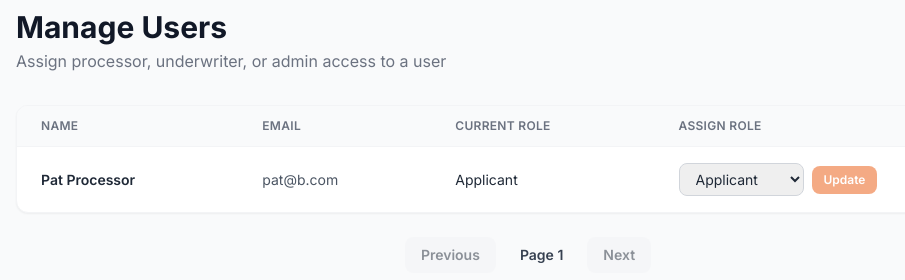
Scenario: UserManagement — role assignment › updates the role via PATCH /admin/users/{id}/role and shows a success message
Expected: the text "Pat Processor" is shown, [17,146,238,212]
Select "Processor" in the dropdown at (741, 180), box [678,163,804,196]
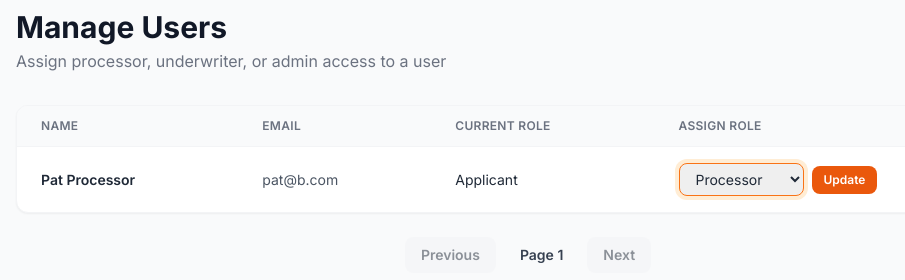
Click the button "Update" at (844, 180), box [812,166,877,194]
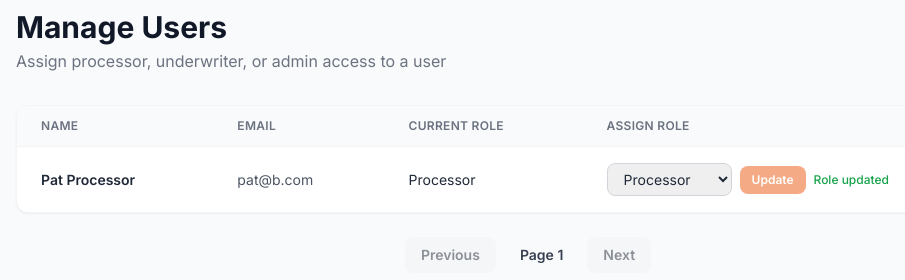
Expected: the text "Role updated" is shown, [814,172,889,188]
Expected: the cell "Processor" is shown, [384,146,582,212]
